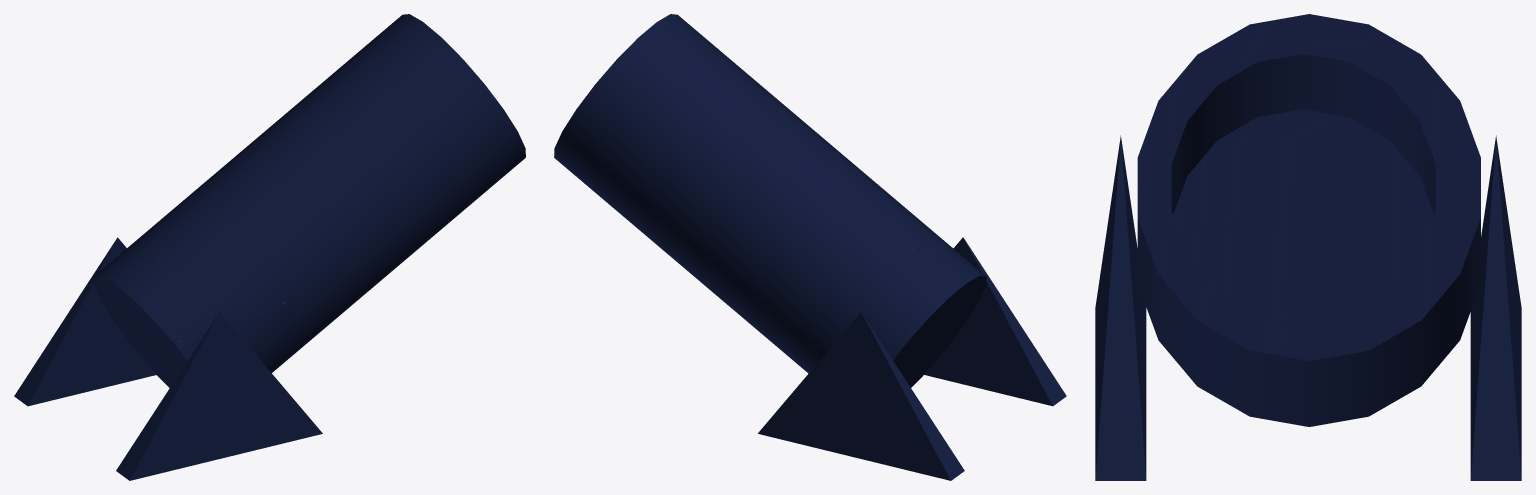
The model's file is cannon.fbx.
3 views of the same model, side by side, from view 1: azimuth 30°, elevation 25°; view 2: azimuth 150°, elevation 25°; view 3: azimuth 270°, elevation 25° (orthographic). The views are drawn at different scales.
Parts seen in each view (by area): view 1: Cylinder001, Pyramid001, Pyramid002; view 2: Cylinder001, Pyramid002, Pyramid001; view 3: Cylinder001, Pyramid001, Pyramid002.
Boxes of the visible parts, x1,y1,x2,y2 form: Cylinder001: [93, 14, 525, 387]; Pyramid001: [116, 312, 322, 480]; Pyramid002: [14, 237, 156, 406]; Cylinder001: [554, 14, 986, 387]; Pyramid002: [757, 312, 964, 480]; Pyramid001: [924, 237, 1066, 406]; Cylinder001: [1137, 14, 1480, 426]; Pyramid001: [1095, 135, 1146, 480]; Pyramid002: [1470, 135, 1521, 480].
Bounding box in the file's own units: 92.08 × 67.98 × 42.55.
1 material, 1 textured.
